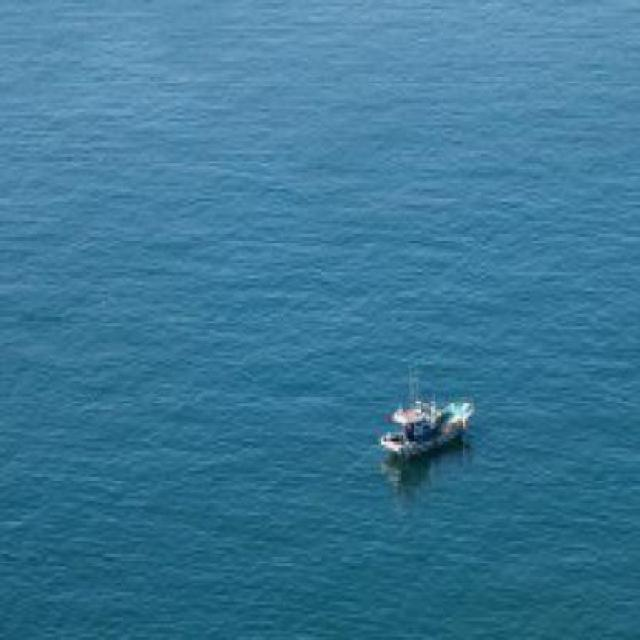fish-b: (379, 363, 483, 471)
